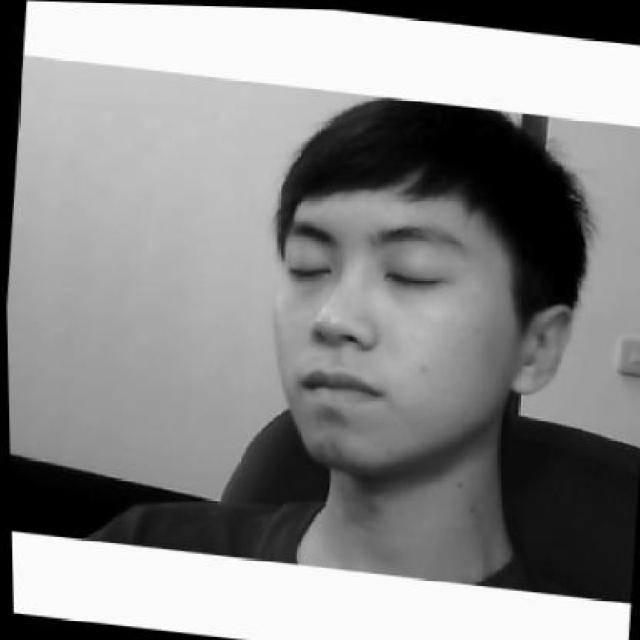inattentif: (249, 83, 596, 492)
